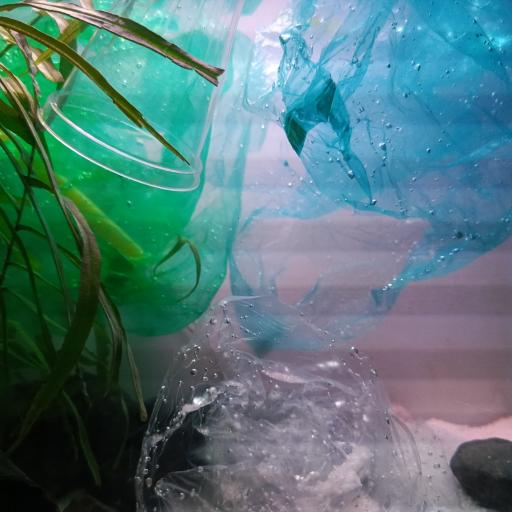plastic_bag: (223, 0, 512, 357), (0, 0, 265, 345), (133, 291, 464, 511)
plastic_cup: (40, 0, 244, 194)
